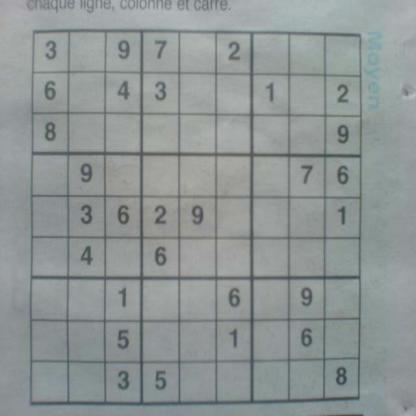sudoku: (26, 23, 366, 409)
